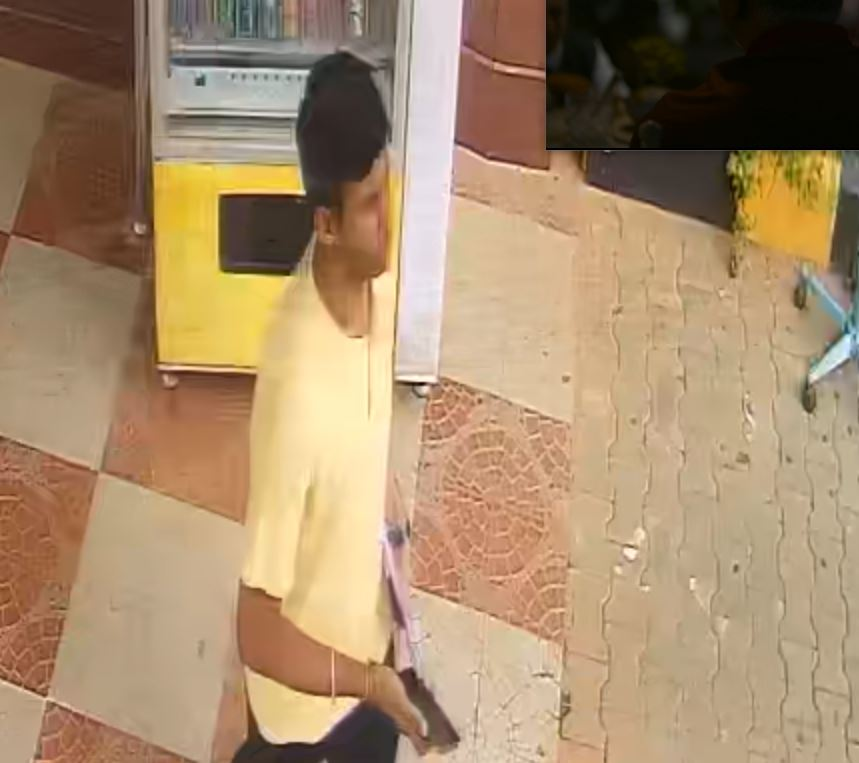intruder: (206, 49, 448, 763)
